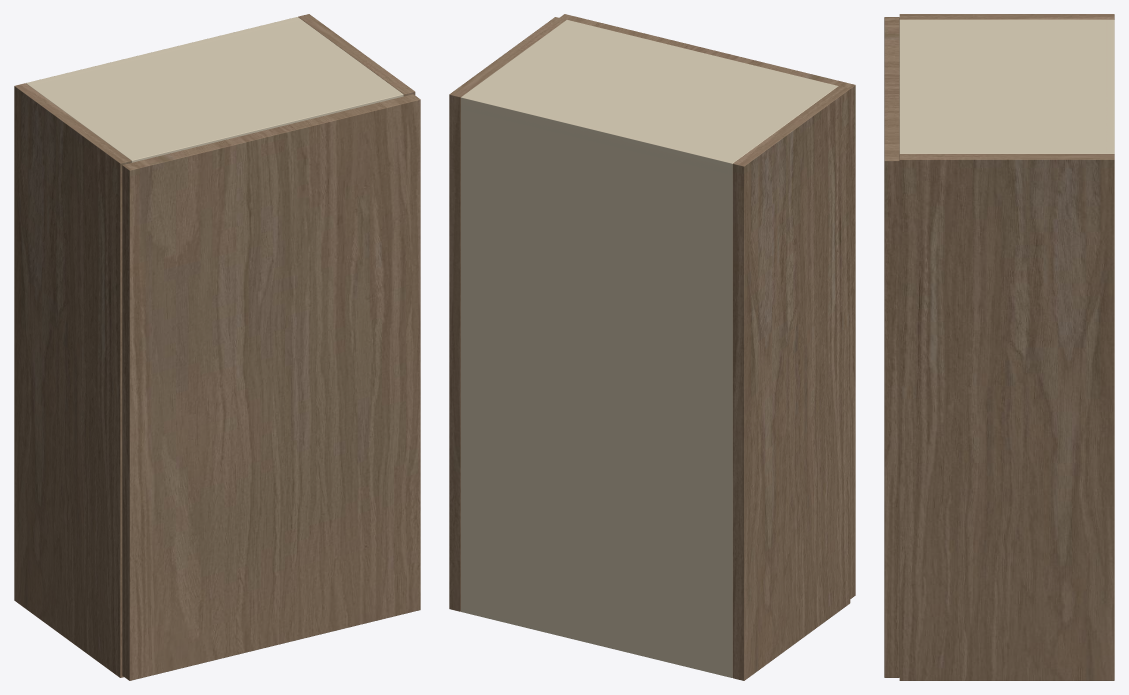
File: oppein-ply-mnw-w1830.glb
3 views of the same model, side by side, from view 1: azimuth 30°, elevation 25°; view 2: azimuth 150°, elevation 25°; view 3: azimuth 270°, elevation 25° (orthographic).
Visible parts, largest first — view 1: Door, Cabinet side, Cabinet top, Cabinet side.001, Cabinet back; view 2: Cabinet back, Cabinet side, Cabinet top, Cabinet side.001, Door; view 3: Cabinet side.001, Cabinet top, Door, Cabinet side, Cabinet back.
Part boxes in pixels (x1,y1,x2,y2): Door: [122, 94, 420, 680]; Cabinet side: [14, 83, 131, 677]; Cabinet top: [26, 19, 403, 162]; Cabinet side.001: [298, 14, 415, 96]; Cabinet back: [27, 17, 300, 85]; Cabinet back: [461, 95, 735, 677]; Cabinet side: [732, 86, 850, 680]; Cabinet top: [461, 20, 838, 174]; Cabinet side.001: [449, 17, 566, 611]; Door: [559, 14, 855, 598]; Cabinet side.001: [899, 154, 1114, 680]; Cabinet top: [899, 19, 1114, 153]; Door: [884, 17, 899, 677]; Cabinet side: [899, 14, 1114, 19]; Cabinet back: [1106, 19, 1114, 153].
Bounding box in the file's own units: 0.4572 × 0.762 × 0.3048.
2 materials, 1 textured.
